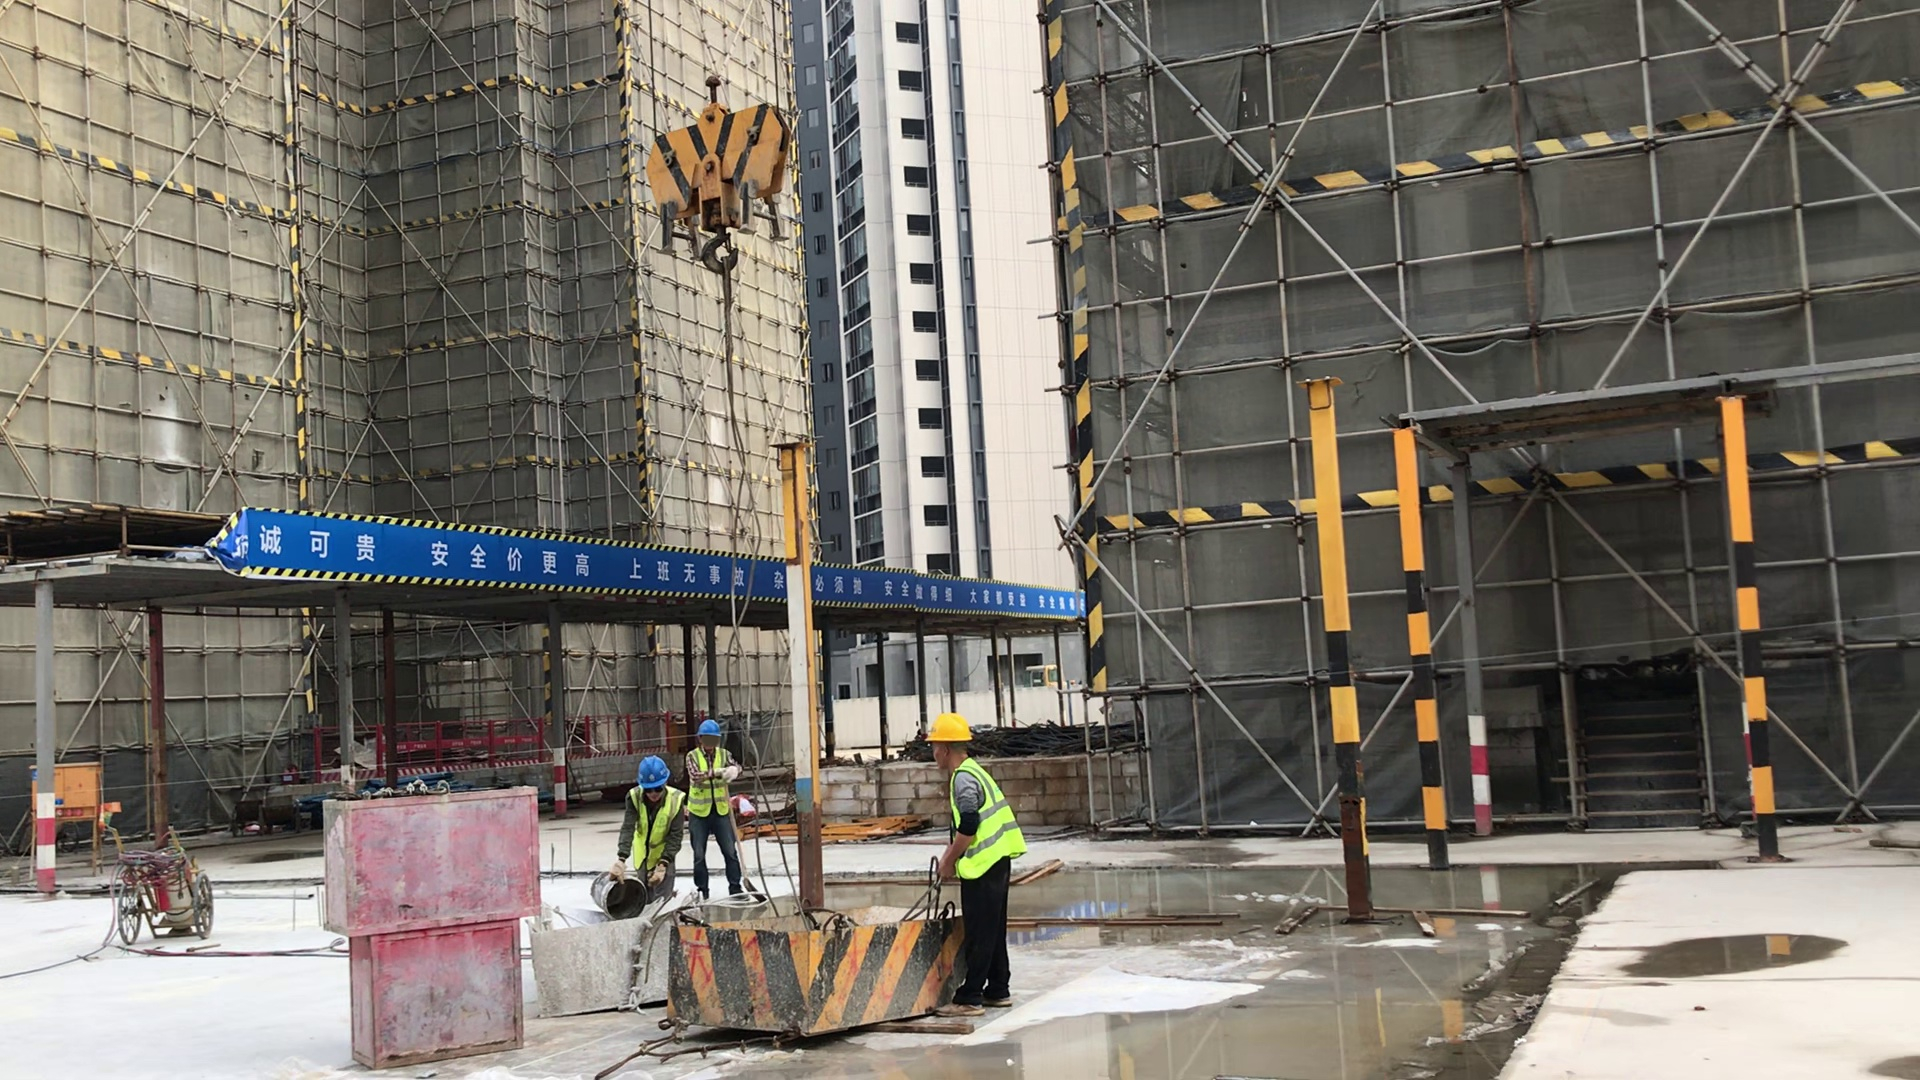ebox: (18, 757, 114, 820)
fence: (297, 712, 688, 772)
handcart: (97, 813, 212, 950)
helmet: (925, 700, 978, 763), (630, 756, 662, 787), (695, 713, 726, 743)
hook: (633, 74, 793, 282)
hopper: (669, 901, 969, 1043), (515, 887, 700, 1019)
person: (907, 713, 1014, 1015), (605, 742, 693, 947), (685, 702, 748, 905)
slogan: (201, 476, 1106, 628)
vest: (943, 774, 1037, 875), (617, 782, 689, 868), (682, 746, 737, 816)
